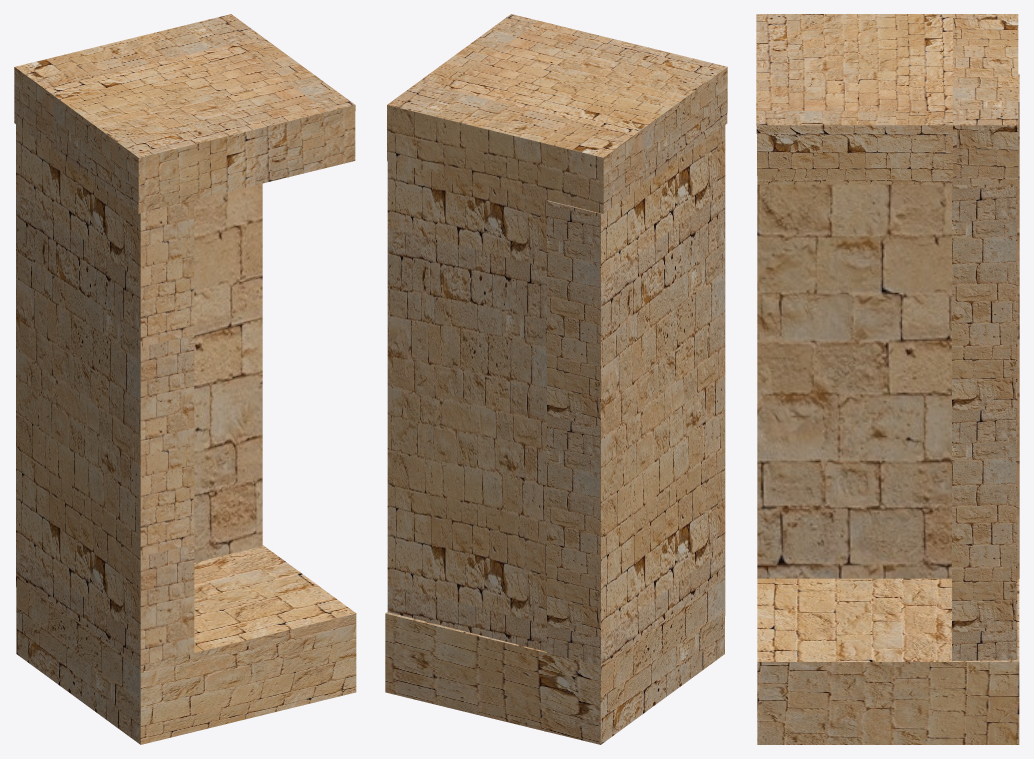
The model's file is Wall2.fbx.
The picture shows the model from 3 angles, left to right: view 1: azimuth 30°, elevation 25°; view 2: azimuth 150°, elevation 25°; view 3: azimuth 270°, elevation 25°; orthographic projection. The views are drawn at different scales.
Visible parts, largest first — view 1: Cube.004; view 2: Cube.004; view 3: Cube.004.
Part boxes in pixels (x1=…): Cube.004: x1=14, y1=14, x2=356, y2=744; Cube.004: x1=385, y1=14, x2=727, y2=744; Cube.004: x1=756, y1=14, x2=1019, y2=744.
Size of the model in its own units: 405 by 1044 by 402.
